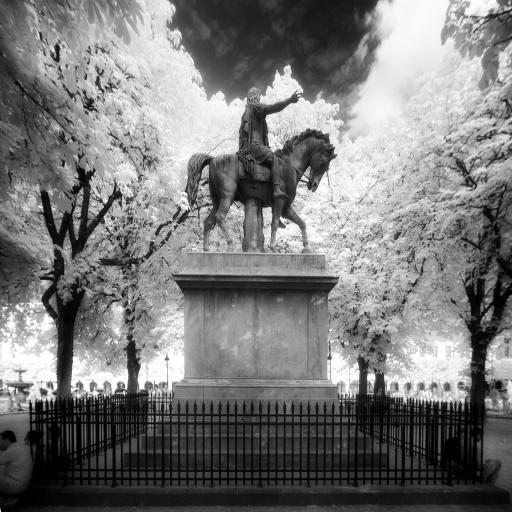horse: (184, 124, 338, 252)
